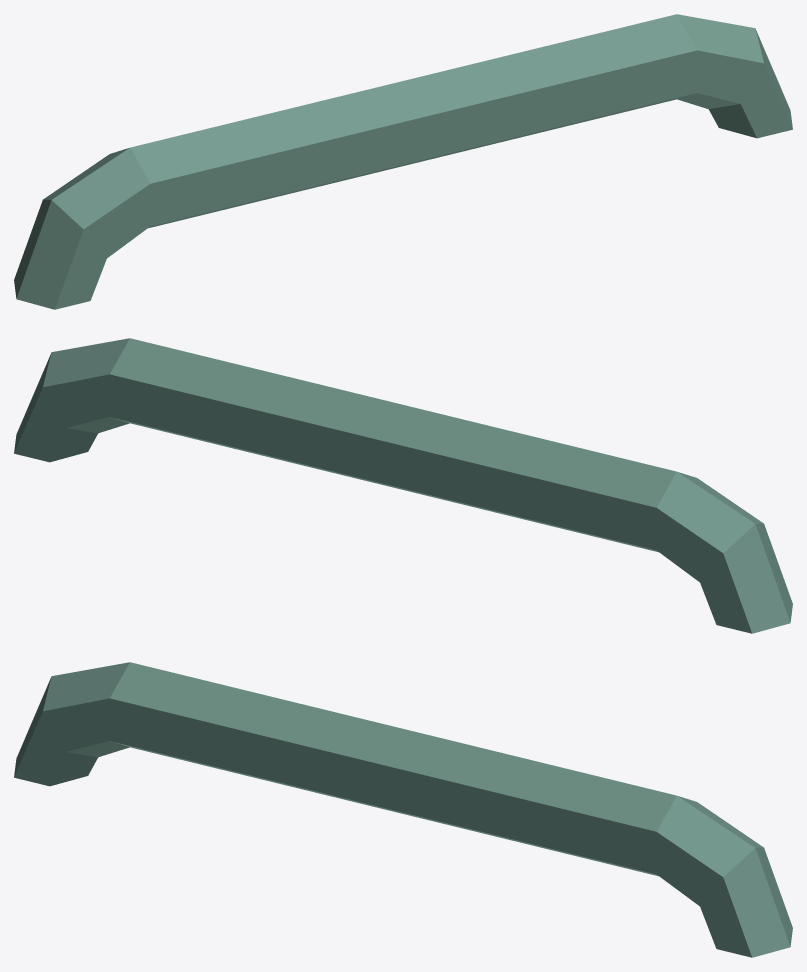
File: Pipe_Straight_Short.glb
The picture shows the model from 3 angles, top to bottom: view 1: azimuth 30°, elevation 25°; view 2: azimuth 150°, elevation 25°; view 3: azimuth 330°, elevation 25°; orthographic projection.
Visible parts, largest first — view 1: Pipe_Straight_Short; view 2: Pipe_Straight_Short; view 3: Pipe_Straight_Short.
Part boxes in pixels (left/top/right/bottom): Pipe_Straight_Short: left=14, top=14, right=792, bottom=309; Pipe_Straight_Short: left=14, top=338, right=792, bottom=633; Pipe_Straight_Short: left=14, top=662, right=792, bottom=957.
Bounding box in the file's own units: 0.6272 × 0.096 × 0.0571.
Materials: 1 (1 with a texture image).
